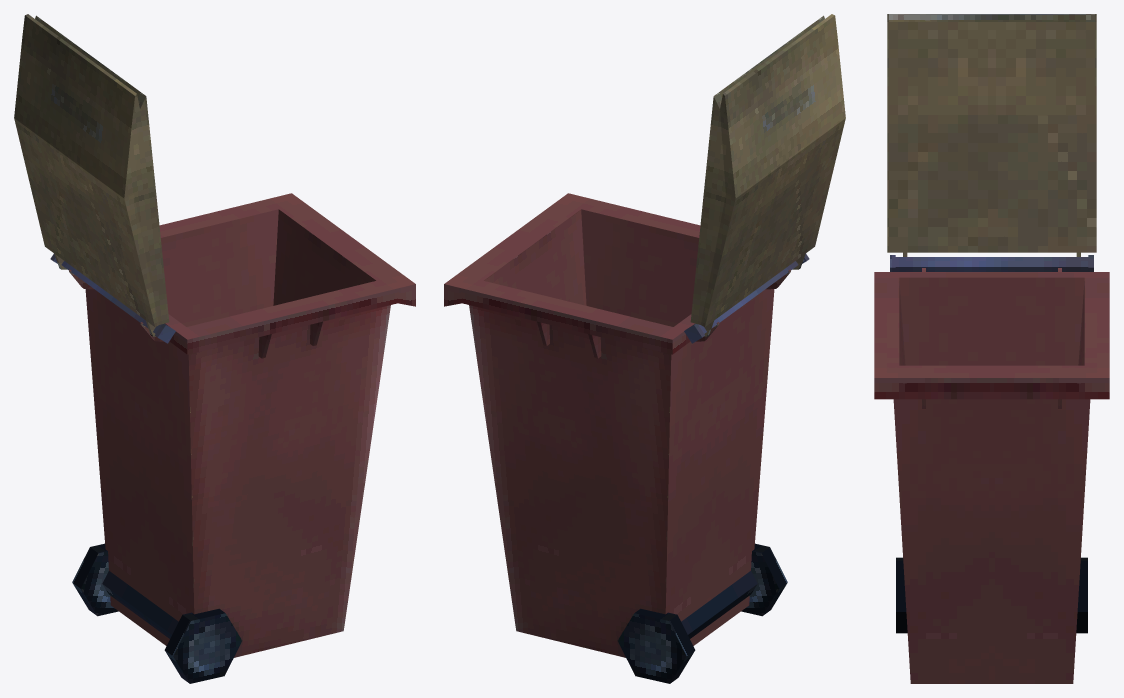
Rendered from trash_can_alt2_open.glb.
3 renders of one model, left to right at view 1: azimuth 30°, elevation 25°; view 2: azimuth 150°, elevation 25°; view 3: azimuth 270°, elevation 25°, orthographic. The views are drawn at different scales.
Parts seen in each view (by area): view 1: trash_can_alt2_open; view 2: trash_can_alt2_open; view 3: trash_can_alt2_open.
Part boxes in pixels (x1,y1,x2,y2): trash_can_alt2_open: (14, 14, 415, 683); trash_can_alt2_open: (444, 14, 845, 683); trash_can_alt2_open: (874, 14, 1109, 683).
Size of the model in its own units: 1.03 by 2.1 by 0.7794.
1 material, 1 textured.
